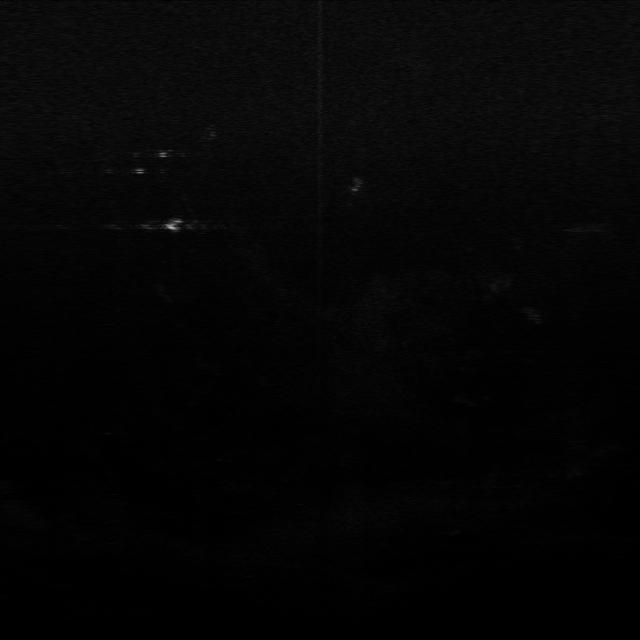rov: (154, 214, 190, 236)
